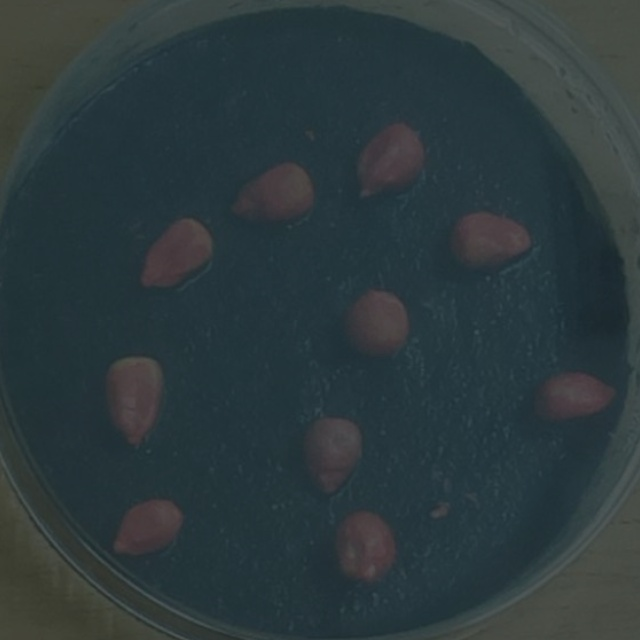Zea mays: (130, 209, 222, 300), (96, 347, 172, 454), (349, 117, 432, 211), (222, 157, 322, 232), (441, 205, 540, 279), (293, 410, 369, 505), (326, 503, 403, 595), (336, 281, 416, 368), (103, 489, 190, 568), (527, 366, 624, 432)
